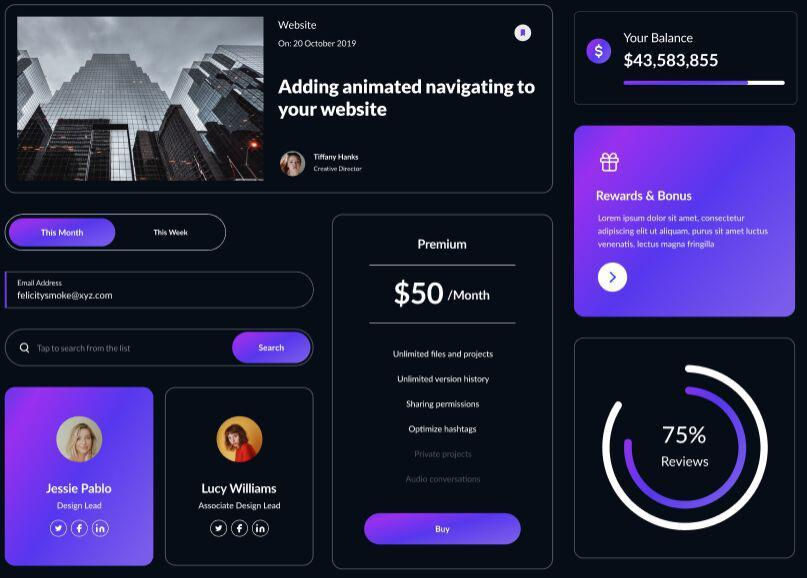button: (366, 514, 522, 546), (234, 332, 312, 364)
icon: (597, 259, 634, 296), (276, 152, 308, 183), (228, 518, 254, 540), (209, 518, 231, 541), (251, 519, 271, 541), (49, 520, 72, 539), (93, 519, 112, 541), (516, 24, 534, 44), (72, 520, 89, 540)
input: (8, 274, 312, 309), (13, 333, 233, 364)
radio: (117, 219, 223, 248), (10, 219, 115, 247)
